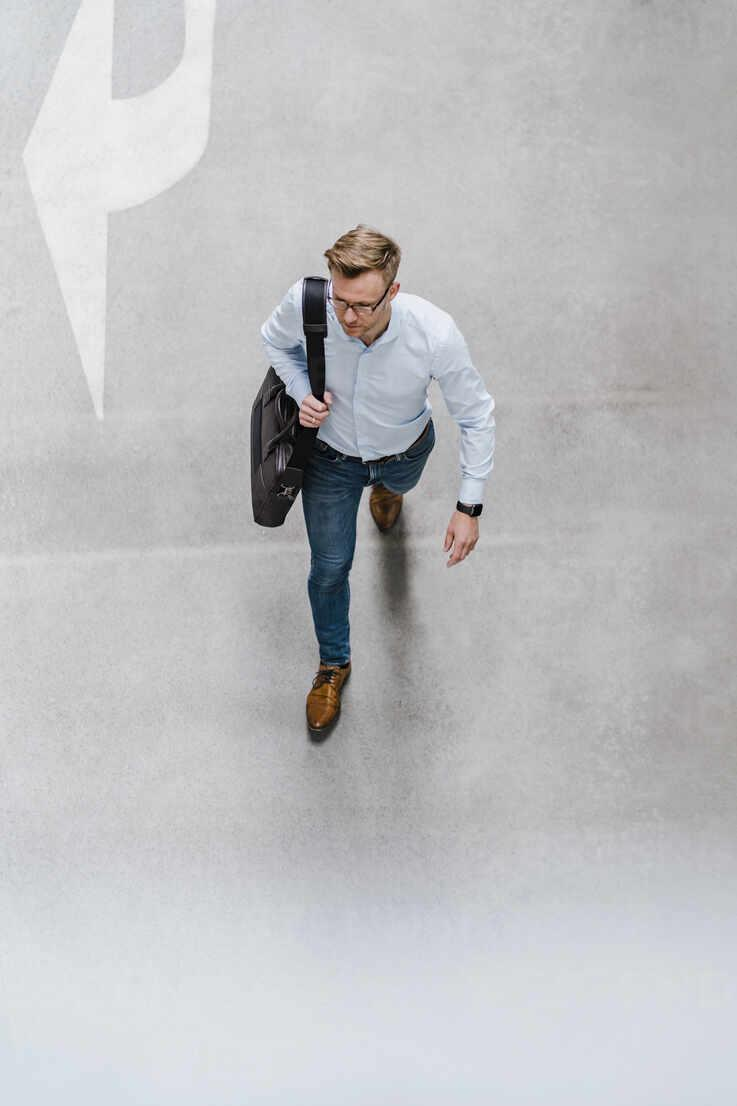long sleeve shirt: (257, 272, 501, 514)
trousers: (293, 422, 439, 672)
